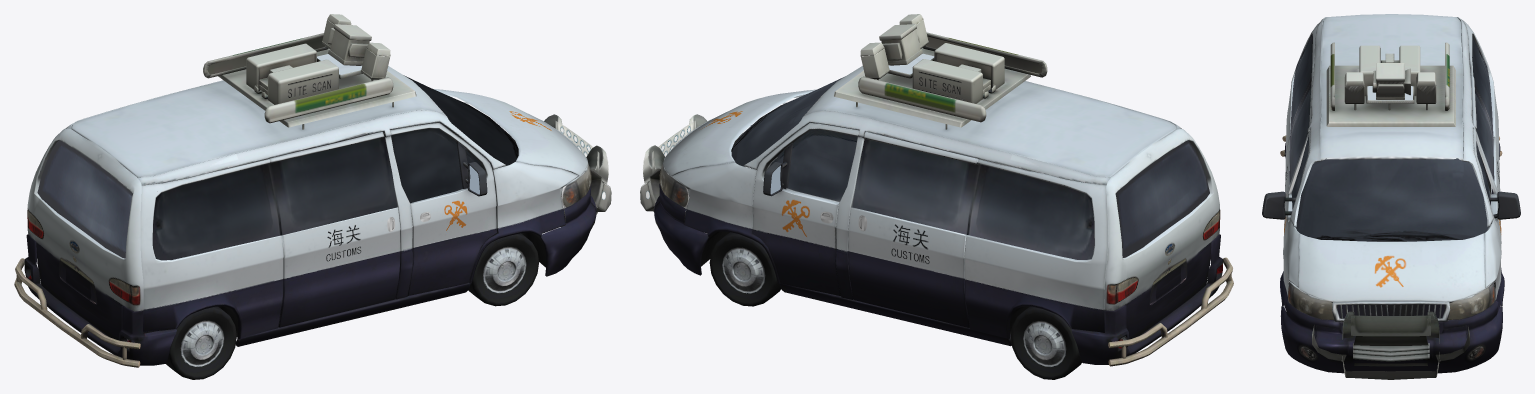
Rendered from gltf2.gltf.
3 renders of one model, left to right at view 1: azimuth 30°, elevation 25°; view 2: azimuth 150°, elevation 25°; view 3: azimuth 270°, elevation 25°, orthographic. The views are drawn at different scales.
Visible parts, largest first — view 1: haiguanjianchaxunluoche, boli, toutie2; view 2: haiguanjianchaxunluoche, boli, toutie2; view 3: haiguanjianchaxunluoche, boli, toutie2.
Part boxes in pixels (bbox=[...]): haiguanjianchaxunluoche: bbox=[14, 14, 596, 379]; boli: bbox=[37, 75, 518, 260]; toutie2: bbox=[508, 114, 611, 226]; haiguanjianchaxunluoche: bbox=[654, 14, 1233, 379]; boli: bbox=[731, 77, 1209, 259]; toutie2: bbox=[640, 114, 742, 222]; haiguanjianchaxunluoche: bbox=[1262, 14, 1520, 373]; boli: bbox=[1289, 34, 1494, 241]; toutie2: bbox=[1312, 311, 1469, 379].
Bounding box in the file's own units: 4.56 × 2.21 × 2.13.
1 material, 1 textured.
